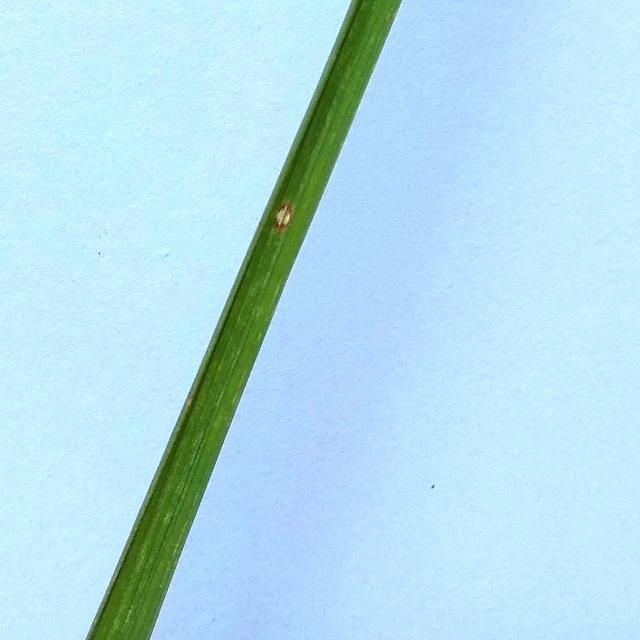Blast: (272, 204, 296, 229)
